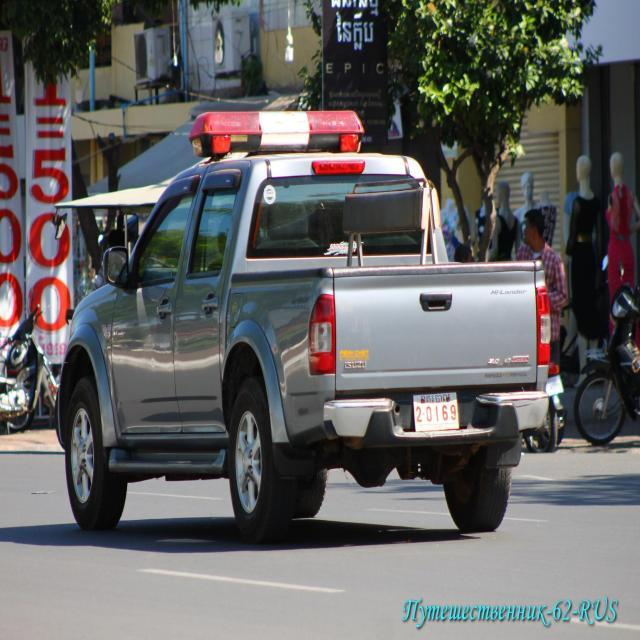Police: (421, 394, 451, 404)
